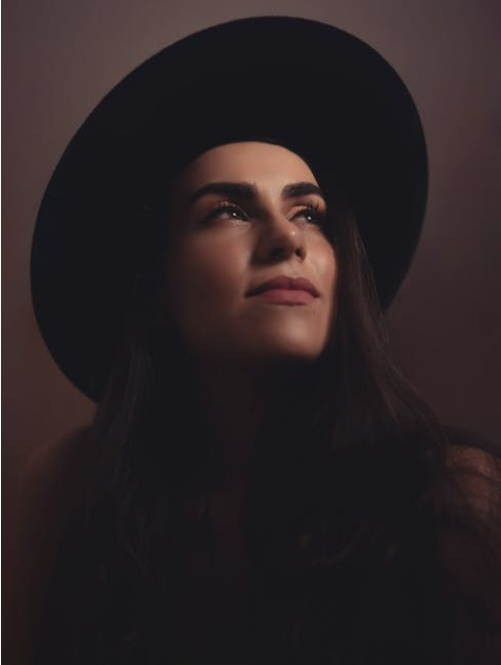face: (187, 156, 330, 359)
